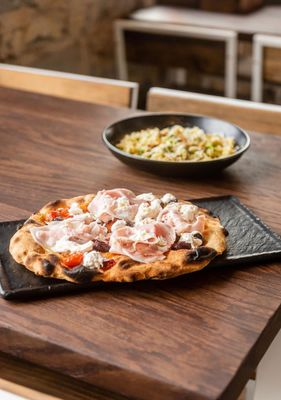sushi: (102, 112, 250, 179)
